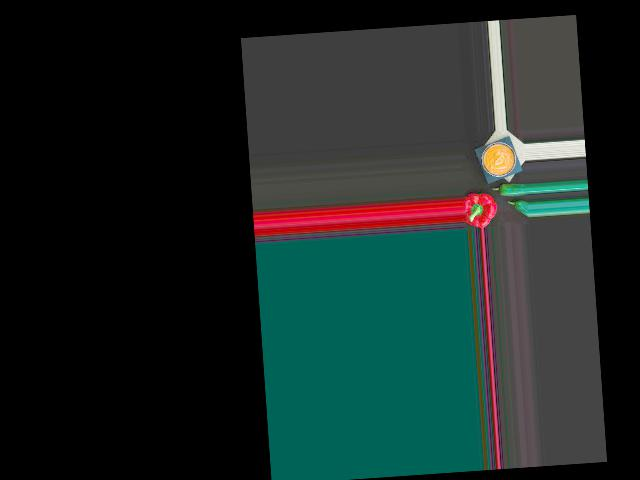bell_pepper: (464, 191, 497, 227)
